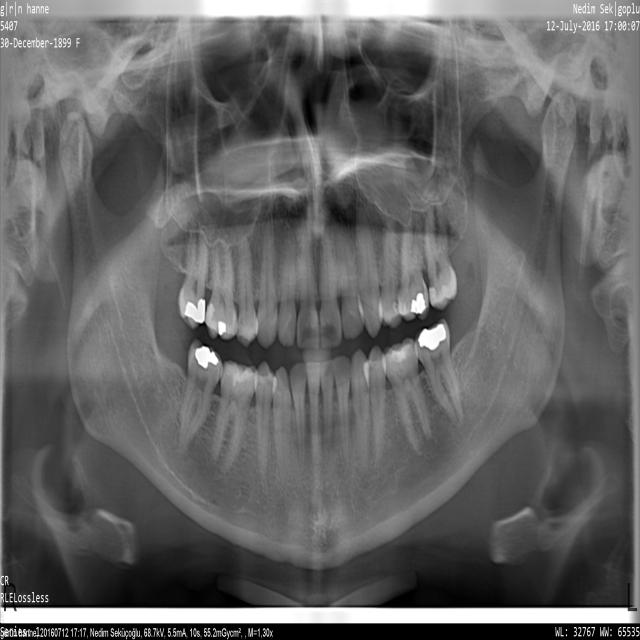Canine: (356, 201, 382, 338), (256, 216, 278, 348), (350, 347, 370, 467), (273, 365, 292, 491)
Incisores: (336, 218, 364, 340), (319, 222, 342, 349), (297, 222, 319, 349), (278, 225, 296, 346), (334, 355, 351, 469), (290, 364, 307, 475), (305, 362, 320, 468), (321, 359, 334, 460)
Premolars: (379, 214, 402, 329), (236, 229, 258, 347), (256, 360, 274, 493), (368, 345, 386, 459)
molars: (383, 338, 432, 455), (414, 318, 464, 426), (212, 360, 258, 475), (180, 339, 223, 445), (425, 196, 457, 311), (177, 222, 208, 330), (398, 216, 429, 321), (205, 243, 237, 340)
